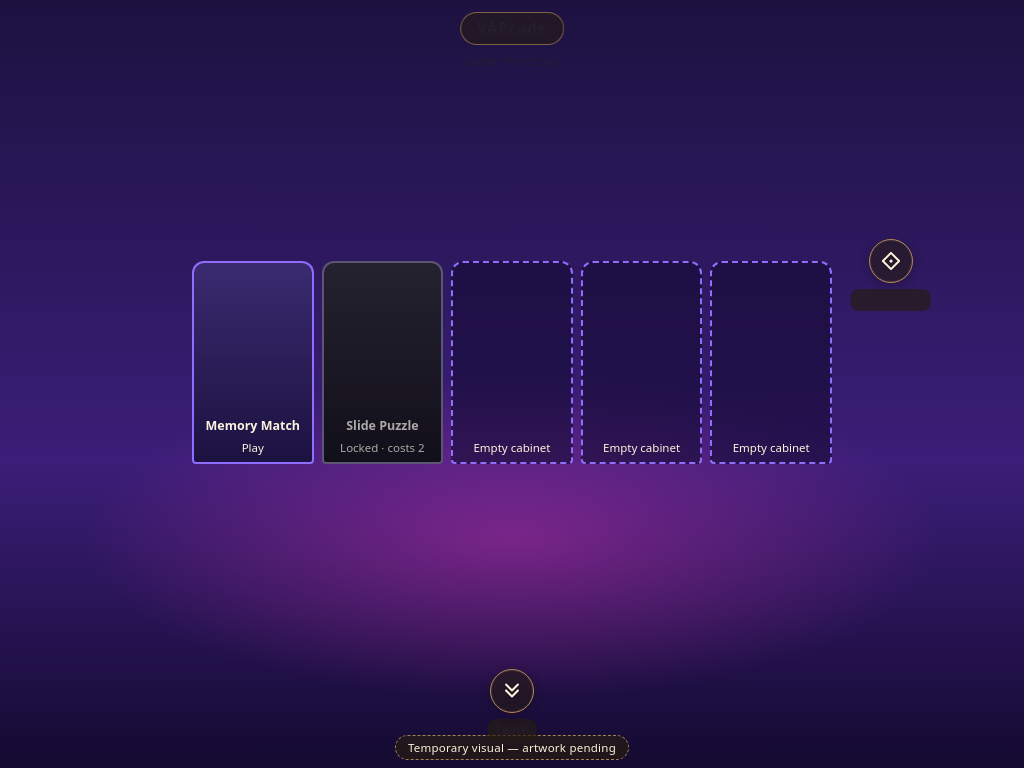
Test: Arcade cabinet screens › shows the localized game name and a clear state on each cabinet, and explains a locked one
This screenshot has width=1024, height=768.
Expected: the text with test id "cabinet-name-1" reads "Memory Match", [206,417,300,434]
Expected: the text with test id "cabinet-state-1" reads "Play", [242,440,264,454]
Click the button with test id "cabinet-2".
click(382, 362)  # box [322,261,443,464]
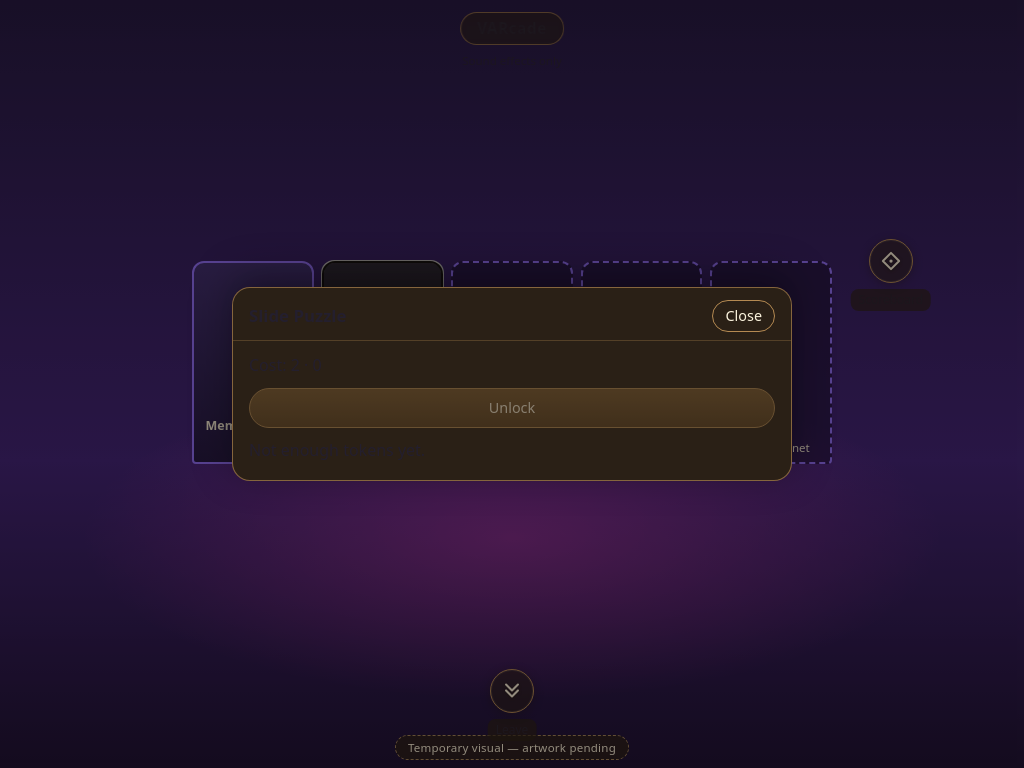
Result: the text "Not enough tokens yet." is shown at [249,438,425,460]
Result: the button with test id "arcade-unlock" is disabled at [249,388,775,428]
